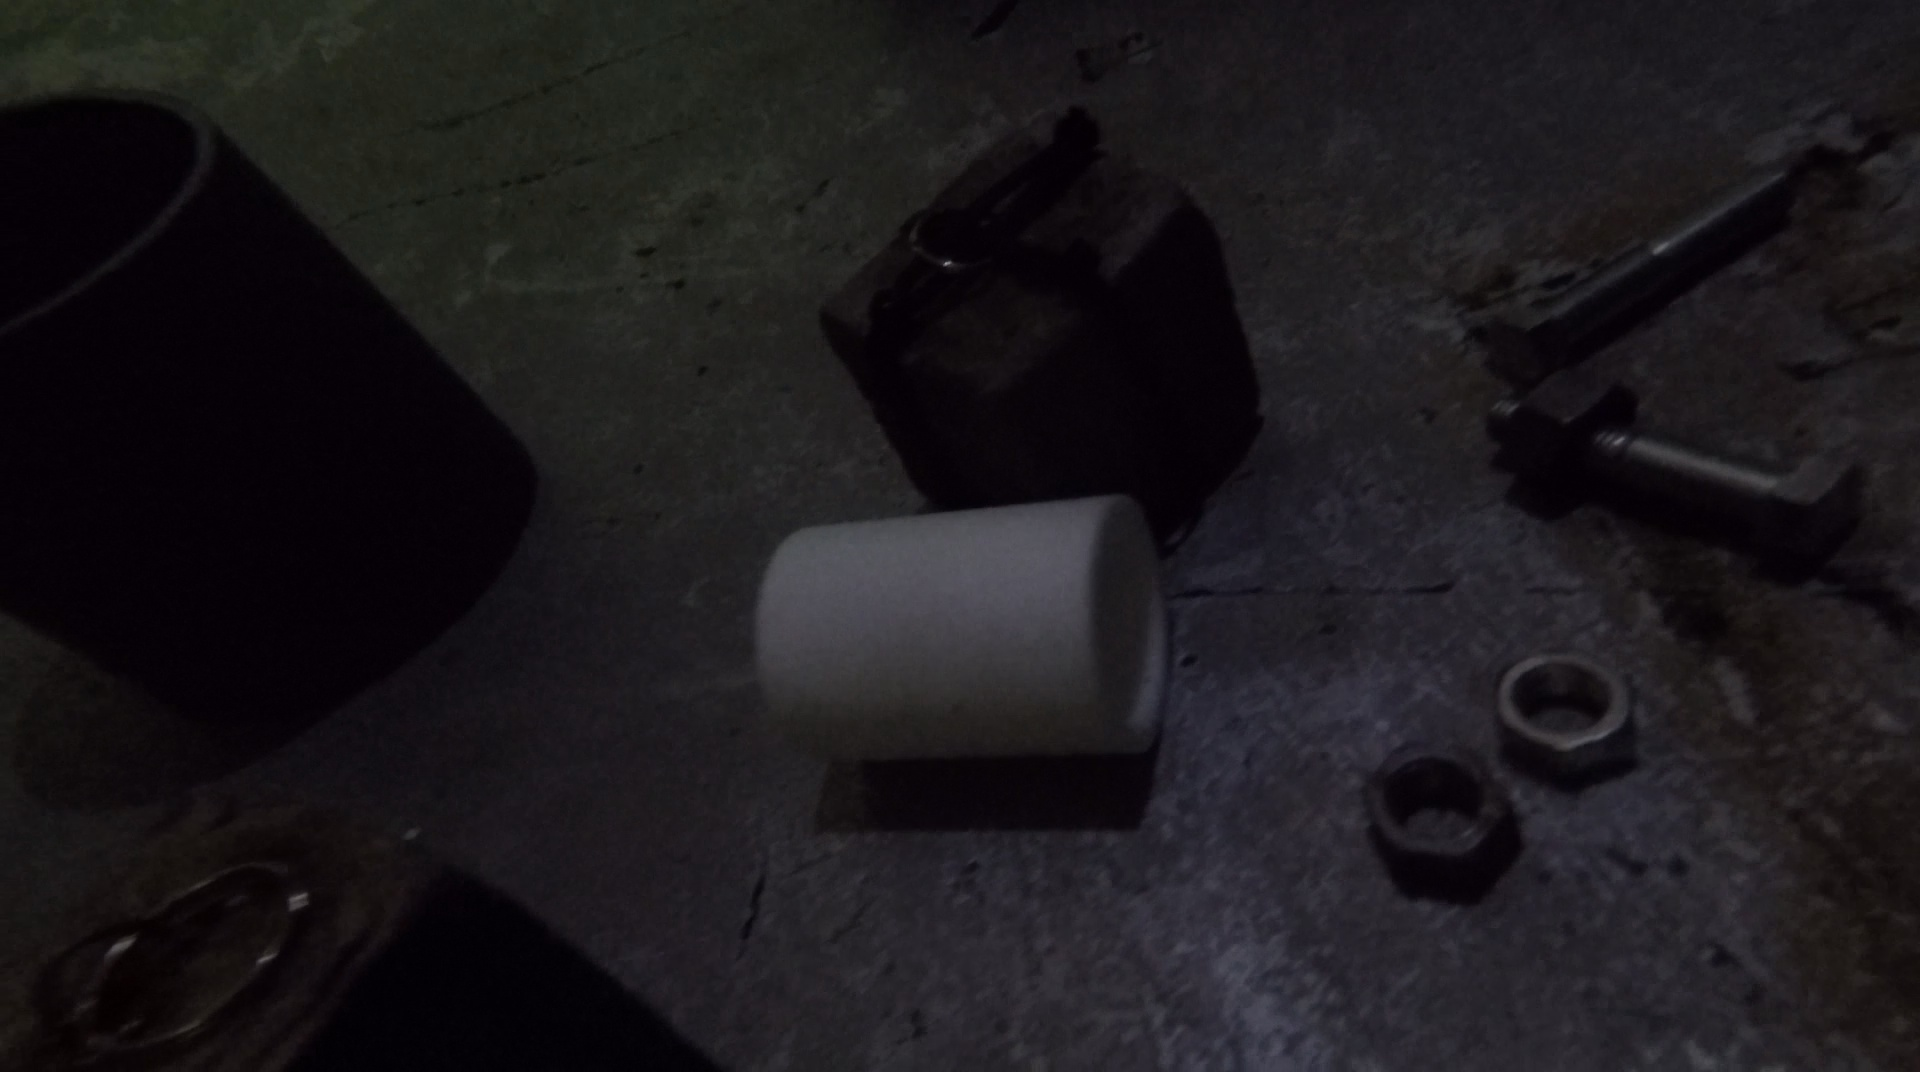led_block: (1, 773, 715, 1067), (822, 104, 1261, 512)
nut: (1361, 733, 1524, 905), (1491, 651, 1639, 789), (1510, 364, 1639, 501)
pipe: (1, 80, 541, 732), (754, 493, 1170, 762), (1482, 393, 1869, 567), (1487, 165, 1795, 378)
